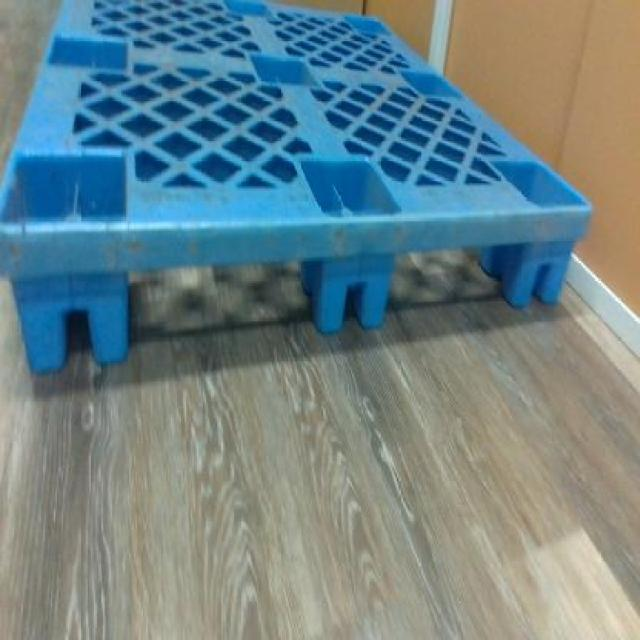block: (9, 278, 140, 372), (317, 257, 402, 333), (513, 236, 582, 313)
front: (0, 208, 592, 378)
